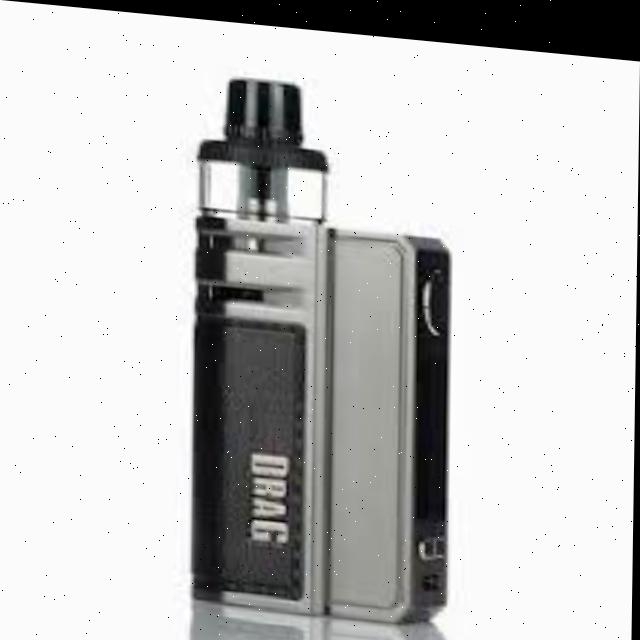vape: (190, 68, 456, 622)
